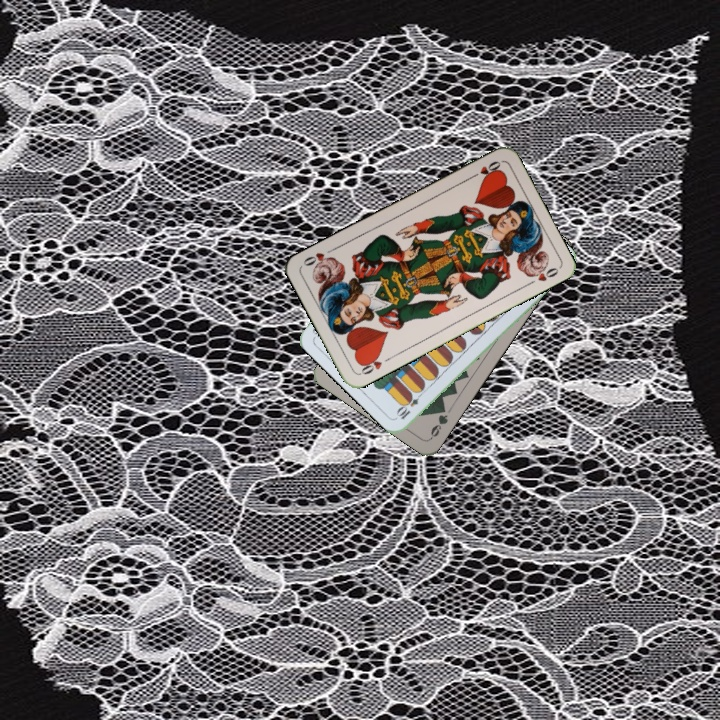E10: (393, 387, 426, 422)
G9: (426, 402, 451, 441)
HO: (356, 351, 394, 377), (466, 157, 503, 181)
